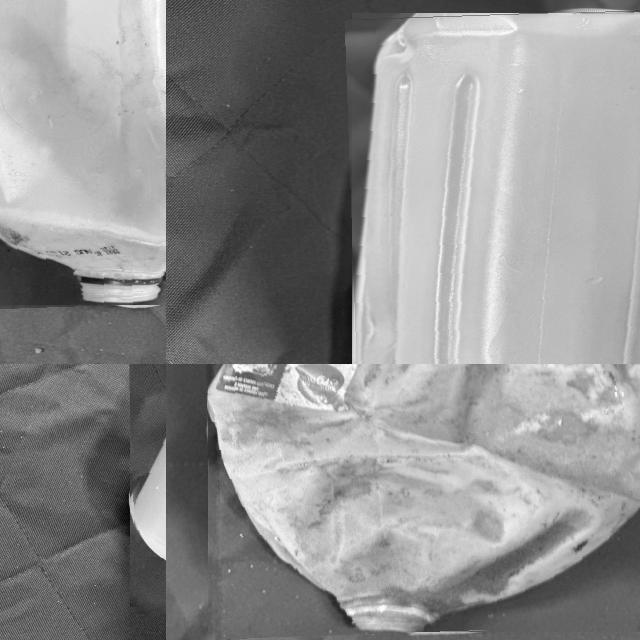milk-jug: (204, 364, 640, 636), (347, 8, 640, 364), (0, 0, 166, 308), (125, 364, 166, 610)
